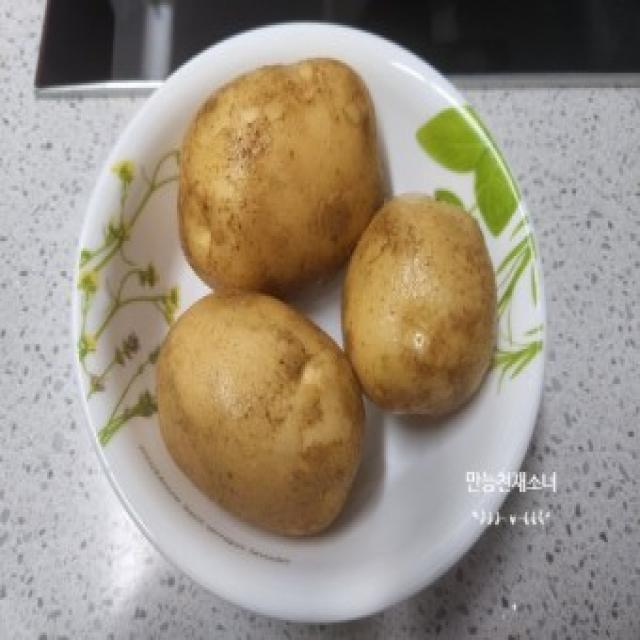potato: (154, 286, 370, 541), (174, 56, 385, 301), (346, 190, 498, 422)
